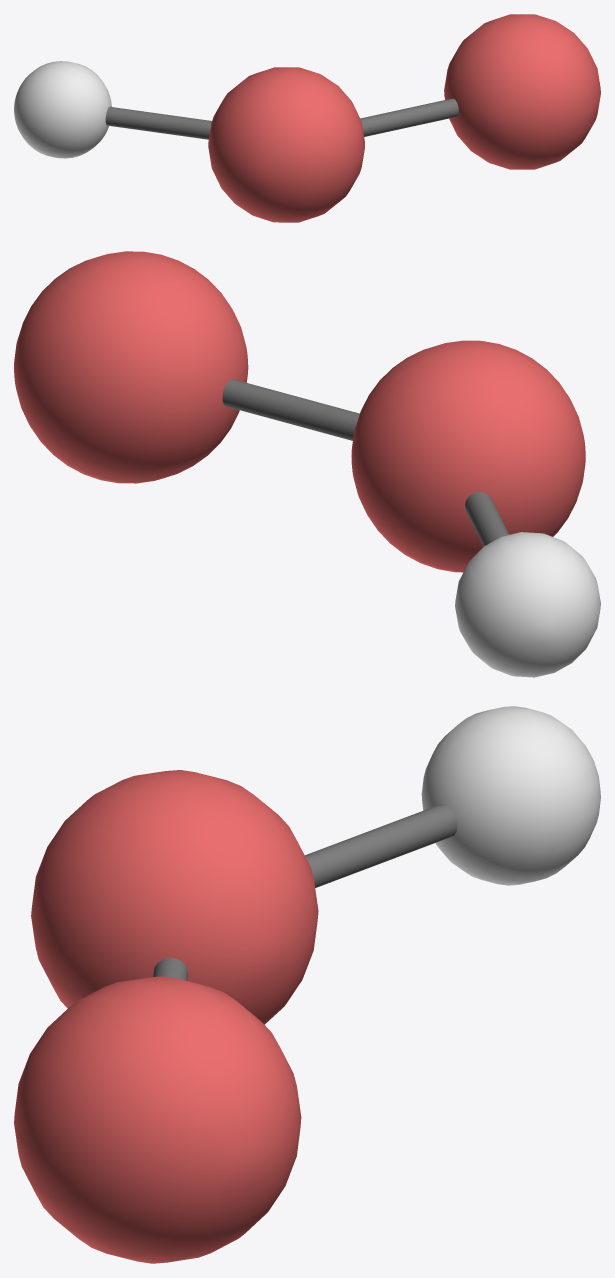
The picture shows the model from 3 angles, top to bottom: view 1: azimuth 30°, elevation 25°; view 2: azimuth 150°, elevation 25°; view 3: azimuth 270°, elevation 25°; orthographic projection. The views are drawn at different scales.
Visible parts, largest first — view 1: B2O; view 2: B2O; view 3: B2O.
Boxes of the visible parts, x1,y1,x2,y2 form: B2O: (14, 14, 600, 222); B2O: (14, 251, 600, 677); B2O: (14, 706, 600, 1263).
Bounding box in the file's own units: 9.29 × 2.67 × 5.45.
